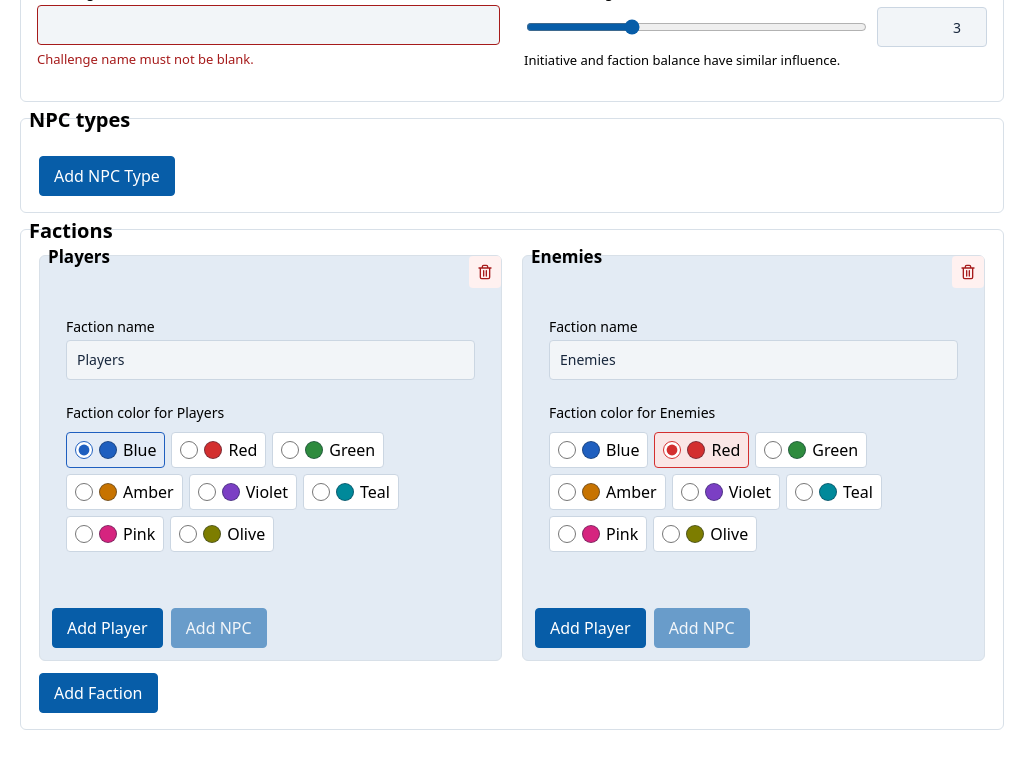
Test: new challenge setup › adds factions and NPC types immediately with sensible defaults
(page scrolled)
Click the button "Add Faction".
click(98, 693)  # box x1=39 y1=673 x2=158 y2=713
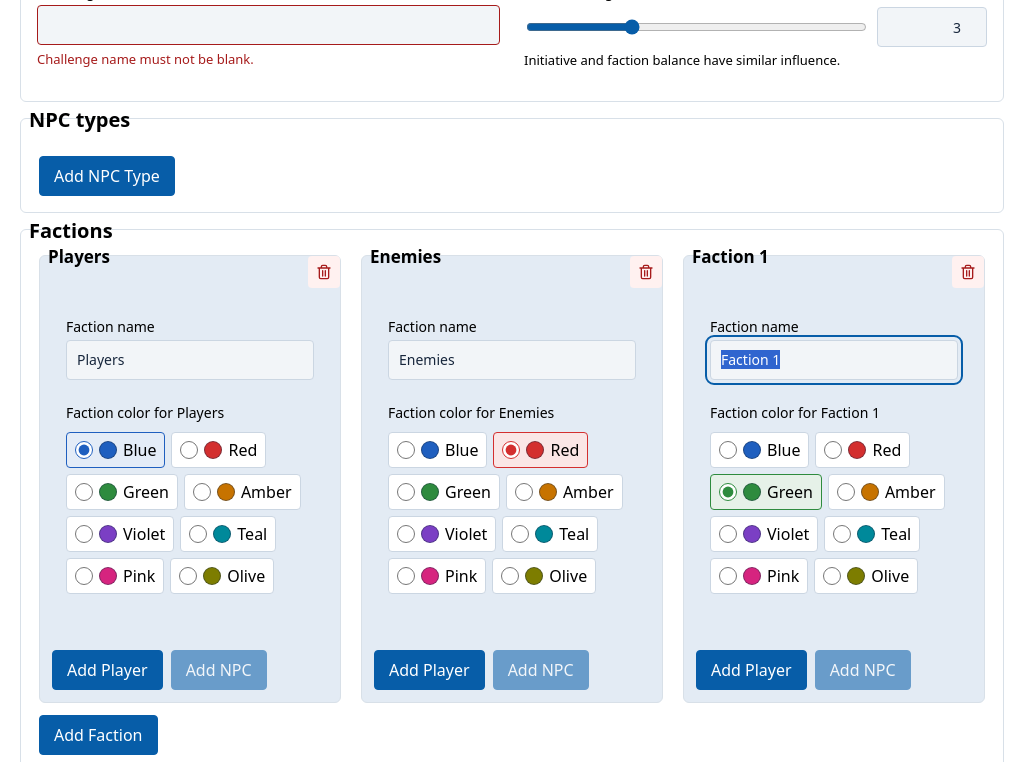
Now the element "Faction 1" is shown, box x1=696 y1=311 x2=972 y2=690
Click the button "Add NPC Type".
click(107, 176)  # box x1=39 y1=156 x2=175 y2=196
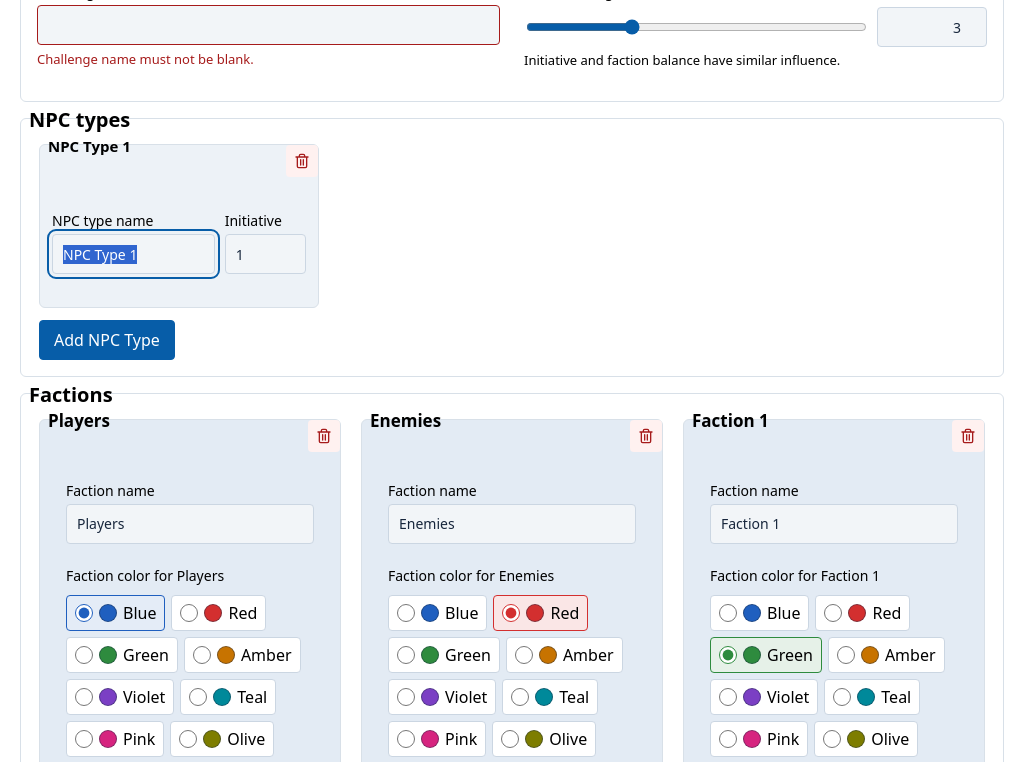
Now the element named "NPC Type 1" is shown, box x1=52 y1=199 x2=306 y2=295
Now the field named "NPC type name: NPC Type 1" is shown, box x1=52 y1=234 x2=215 y2=274
Now the number field named "Initiative stat for NPC Type 1" is shown, box x1=225 y1=234 x2=306 y2=274
